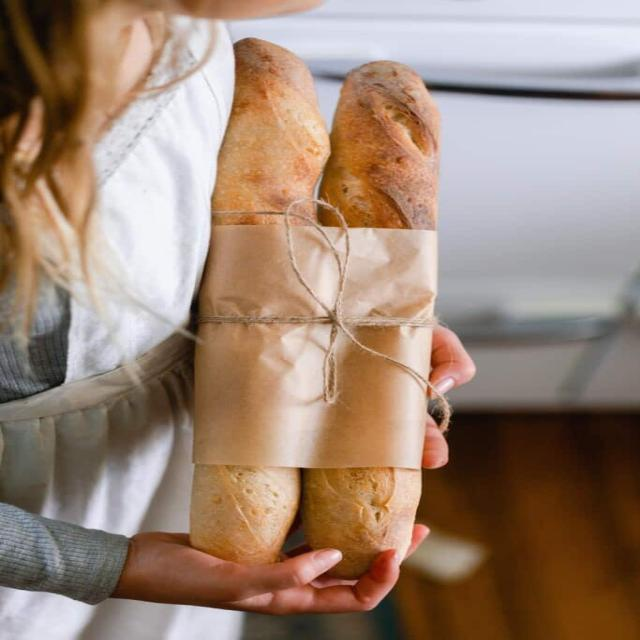Baguette: (212, 39, 329, 228), (318, 61, 438, 229), (303, 468, 420, 578), (190, 466, 299, 561)
